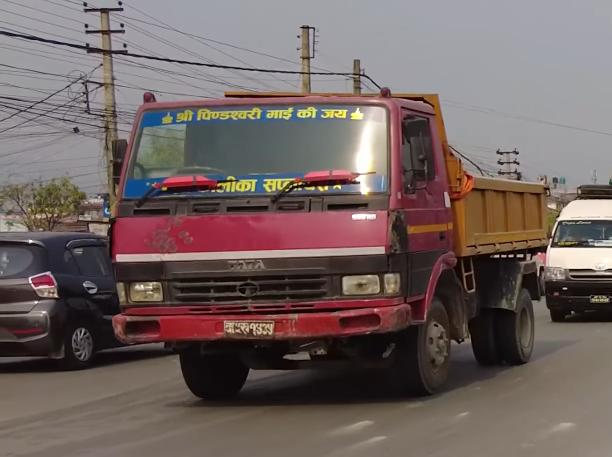car: (0, 218, 159, 373)
micro_bus: (541, 168, 612, 325)
mini_truck: (105, 63, 551, 408)
